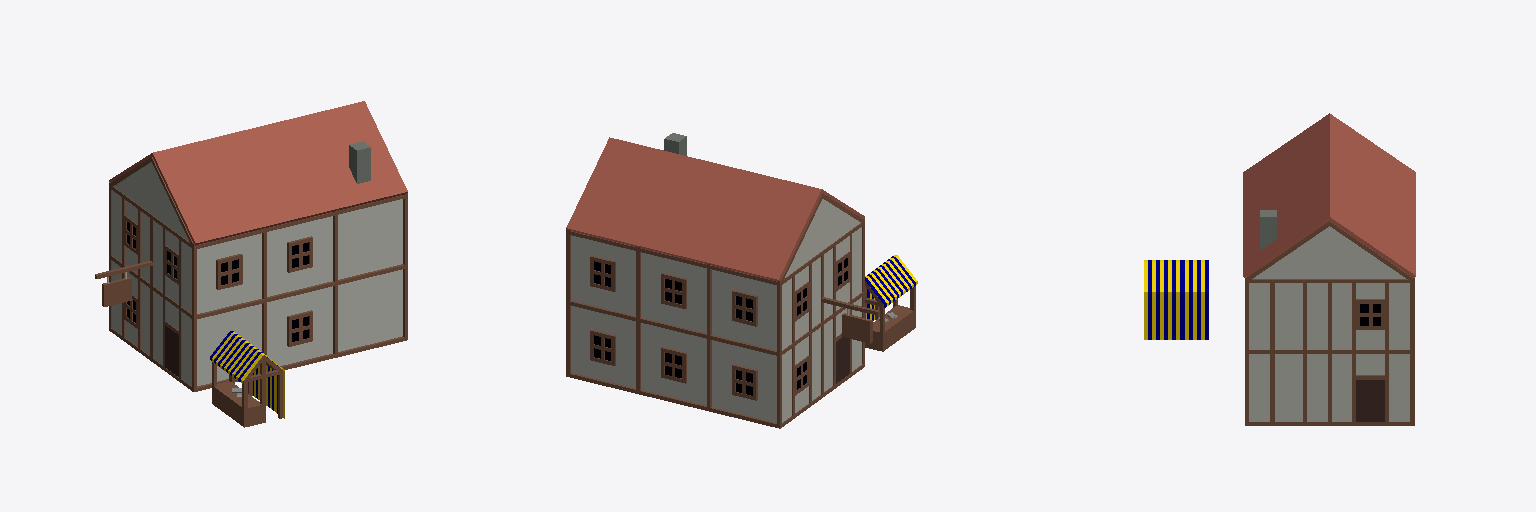
File: timberframedclothier_blue_yellow.obj
3 renders of one model, left to right at view 1: azimuth 30°, elevation 25°; view 2: azimuth 150°, elevation 25°; view 3: azimuth 270°, elevation 25°, orthographic.
Parts seen in each view (by area): view 1: Cube.005, Cube.007_Cube.011, Cube.011_Cube.015, Cube.018_Cube.016, Cube.056_Cube.081, Cube.001_Cube.058, Cube.013_Cube.080, Cube.006_Cube.010, Cube.055_Cube.059, Cube.026_Cube.019, Cube.073_Cube.078, Cube.012_Cube.017 (+5 smaller); view 2: Cube.005, Cube.007_Cube.011, Cube.023_Cube.026, Cube.022_Cube.025, Cube.021_Cube.024, Cube.015_Cube.020, Cube.019_Cube.022, Cube.017_Cube.021, Cube.014_Cube.018, Cube.008, Cube.020_Cube.023, Cube.073_Cube.078 (+6 smaller); view 3: Cube.005, Cube.007_Cube.011, Cube.147_Cube.153, Cube.003, Cube.033, Cube.027, Cube.047_Cube.049, Cube.031, Cube.016_Cube.013, Cube.006_Cube.010, Cube.012_Cube.017, Cube.035 (+4 smaller).
Boxes of the visible parts, x1=… form: Cube.005: x1=112, y1=162, x2=402, y2=385; Cube.007_Cube.011: x1=109, y1=101, x2=407, y2=244; Cube.011_Cube.015: x1=195, y1=264, x2=406, y2=319; Cube.018_Cube.016: x1=195, y1=195, x2=406, y2=249; Cube.056_Cube.081: x1=216, y1=254, x2=242, y2=289; Cube.001_Cube.058: x1=287, y1=310, x2=312, y2=346; Cube.013_Cube.080: x1=287, y1=236, x2=312, y2=272; Cube.006_Cube.010: x1=349, y1=141, x2=370, y2=183; Cube.055_Cube.059: x1=197, y1=336, x2=406, y2=391; Cube.026_Cube.019: x1=192, y1=243, x2=196, y2=391; Cube.073_Cube.078: x1=102, y1=277, x2=131, y2=306; Cube.012_Cube.017: x1=403, y1=193, x2=407, y2=339; Cube.005: x1=571, y1=199, x2=861, y2=422; Cube.007_Cube.011: x1=566, y1=137, x2=864, y2=280; Cube.023_Cube.026: x1=567, y1=373, x2=776, y2=427; Cube.022_Cube.025: x1=567, y1=301, x2=776, y2=355; Cube.021_Cube.024: x1=570, y1=231, x2=776, y2=284; Cube.015_Cube.020: x1=732, y1=290, x2=757, y2=326; Cube.019_Cube.022: x1=661, y1=347, x2=686, y2=383; Cube.017_Cube.021: x1=590, y1=330, x2=615, y2=365; Cube.014_Cube.018: x1=661, y1=273, x2=686, y2=308; Cube.008: x1=590, y1=255, x2=615, y2=291; Cube.020_Cube.023: x1=732, y1=364, x2=757, y2=400; Cube.073_Cube.078: x1=842, y1=313, x2=872, y2=343; Cube.005: x1=1249, y1=226, x2=1409, y2=421; Cube.007_Cube.011: x1=1243, y1=113, x2=1415, y2=277; Cube.147_Cube.153: x1=1144, y1=292, x2=1208, y2=339; Cube.003: x1=1356, y1=380, x2=1384, y2=421; Cube.033: x1=1356, y1=299, x2=1384, y2=329; Cube.027: x1=1410, y1=277, x2=1414, y2=425; Cube.047_Cube.049: x1=1270, y1=279, x2=1274, y2=423; Cube.031: x1=1249, y1=422, x2=1410, y2=425; Cube.016_Cube.013: x1=1248, y1=350, x2=1409, y2=353; Cube.006_Cube.010: x1=1260, y1=210, x2=1276, y2=249; Cube.012_Cube.017: x1=1245, y1=277, x2=1248, y2=425; Cube.035: x1=1352, y1=279, x2=1355, y2=423.
Bounding box in the file's own units: 15.3 × 11.25 × 13.34.